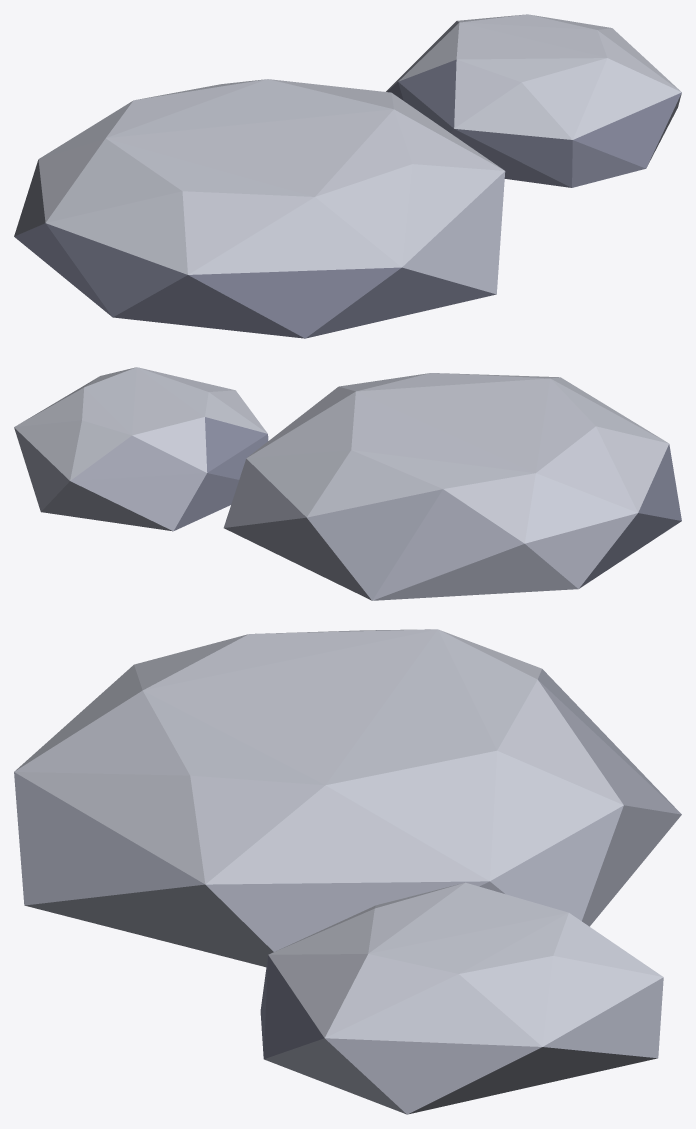
The model's file is stone_smallFlatC.glb.
3 views of the same model, one above another, from view 1: azimuth 30°, elevation 25°; view 2: azimuth 150°, elevation 25°; view 3: azimuth 270°, elevation 25° (orthographic). The views are drawn at different scales.
Parts seen in each view (by area): view 1: stone_smallFlatC; view 2: stone_smallFlatC; view 3: stone_smallFlatC.
Boxes of the visible parts, left/top/right/bottom form: stone_smallFlatC: left=14, top=14, right=681, bottom=338; stone_smallFlatC: left=14, top=367, right=681, bottom=600; stone_smallFlatC: left=14, top=629, right=681, bottom=1114.
Size of the model in its own units: 0.4151 by 0.0599 by 0.2832.
1 material, 1 textured.
